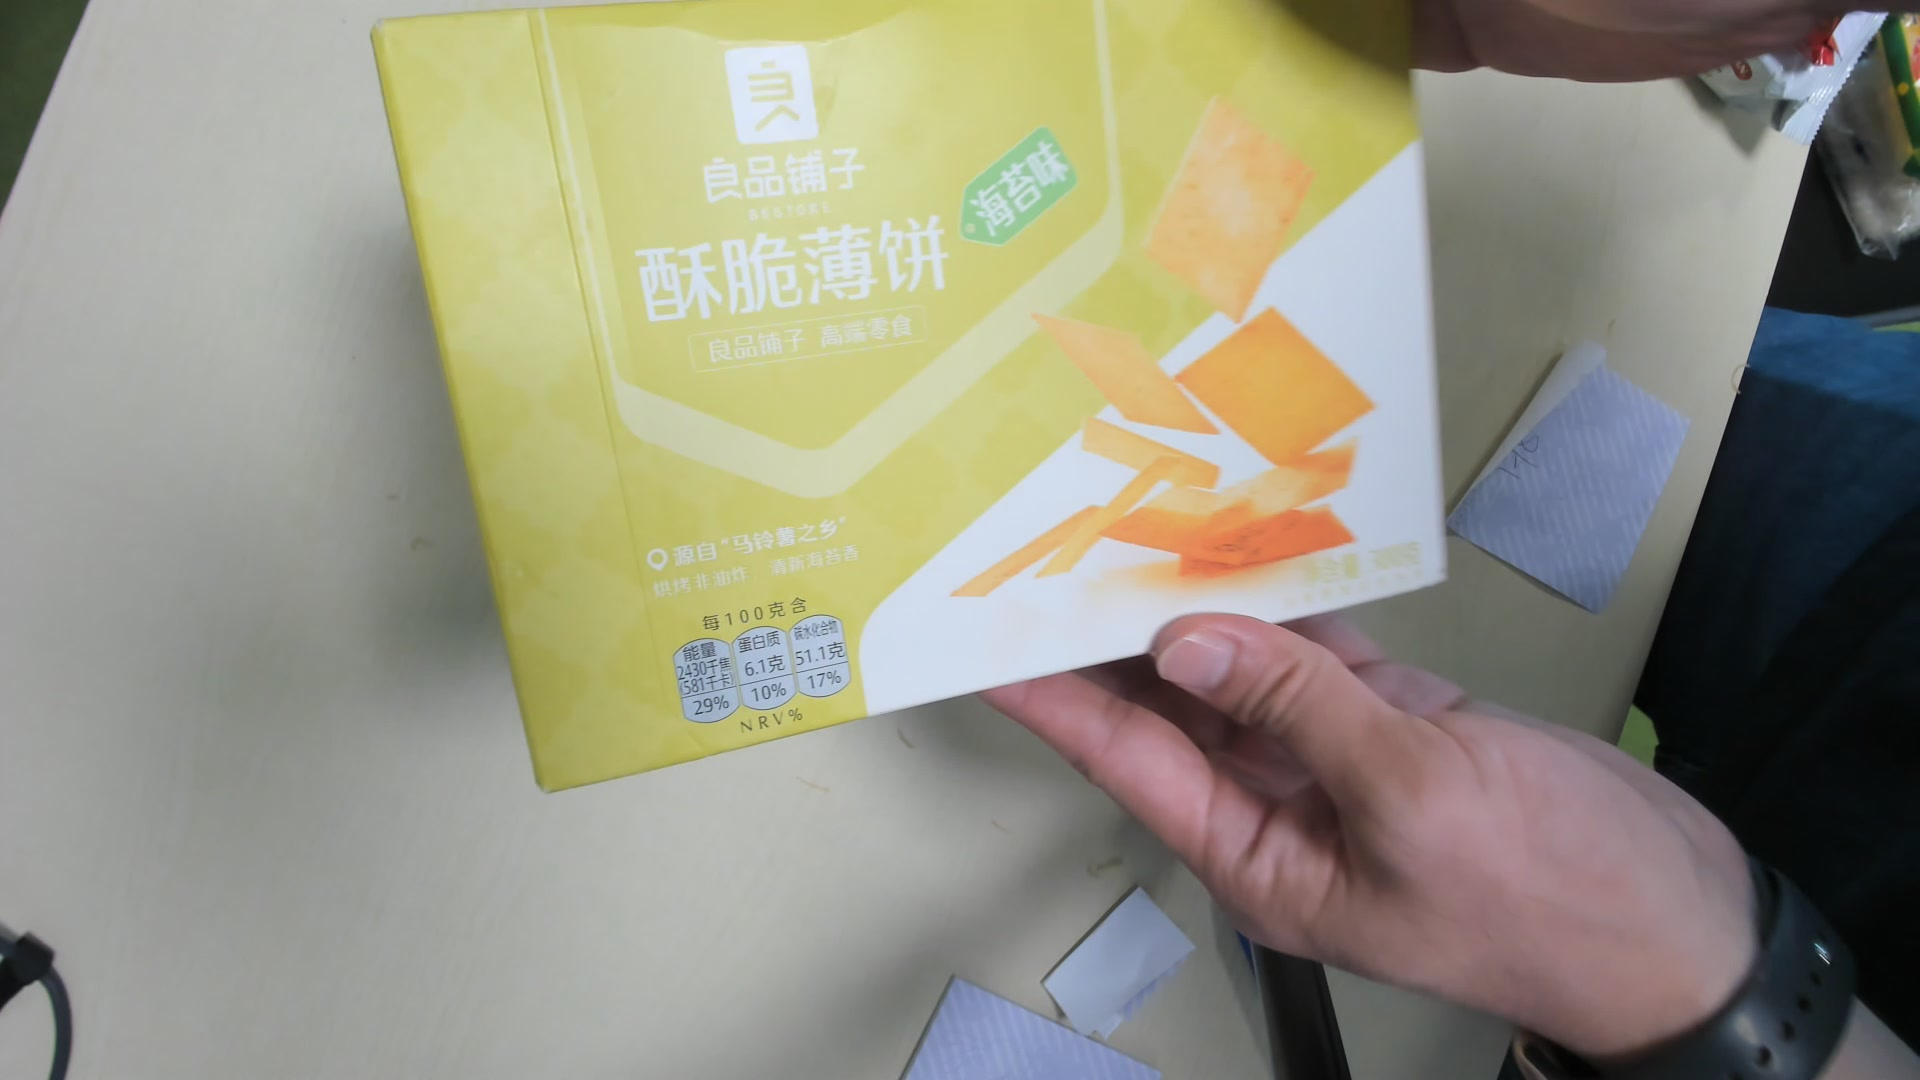BiscuitsCrackersCookies_300-399g_Halal_NonHealthy: (369, 1, 1456, 795)
